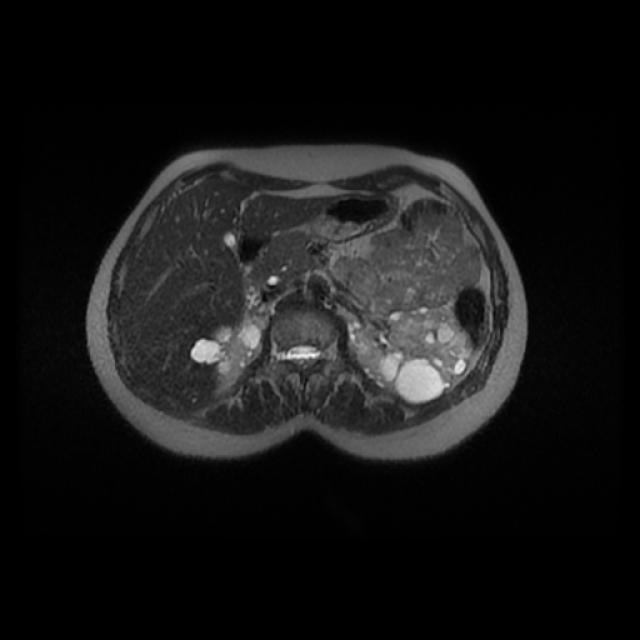sag: (192, 313, 270, 387)
sol: (350, 304, 472, 400)
